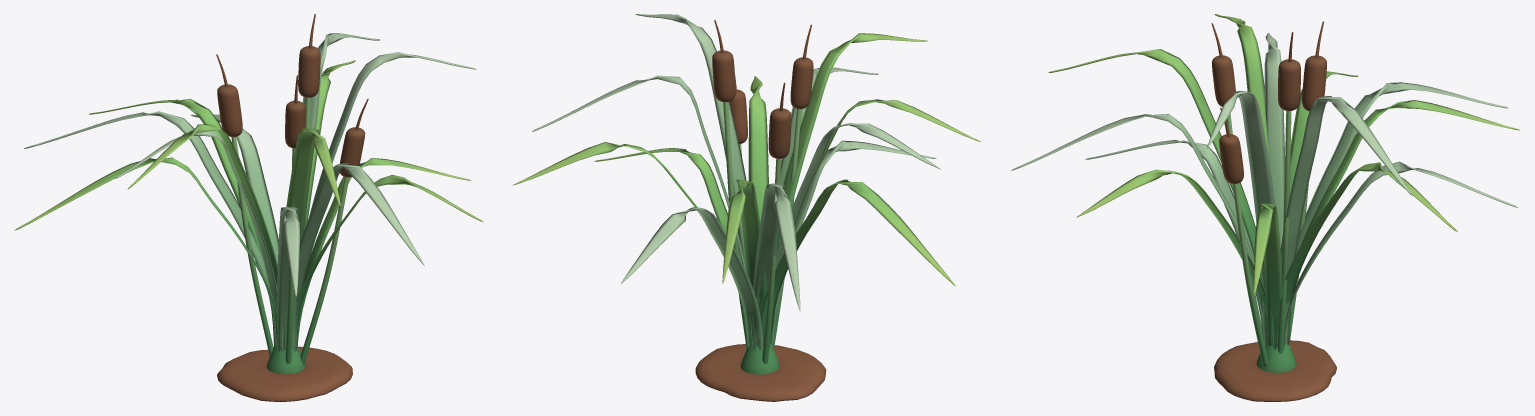
The model's file is cattail_medium.fbx.
3 renders of one model, left to right at view 1: azimuth 30°, elevation 25°; view 2: azimuth 150°, elevation 25°; view 3: azimuth 270°, elevation 25°, orthographic. The views are drawn at different scales.
Parts seen in each view (by area): view 1: cattail_medium; view 2: cattail_medium; view 3: cattail_medium.
Part boxes in pixels (box(x1,y1,x2,y2)): cattail_medium: box(14, 14, 482, 401); cattail_medium: box(513, 14, 980, 401); cattail_medium: box(1011, 14, 1519, 401).
Bounding box in the file's own units: 1 × 0.8125 × 1.04.
1 material, 1 textured.
